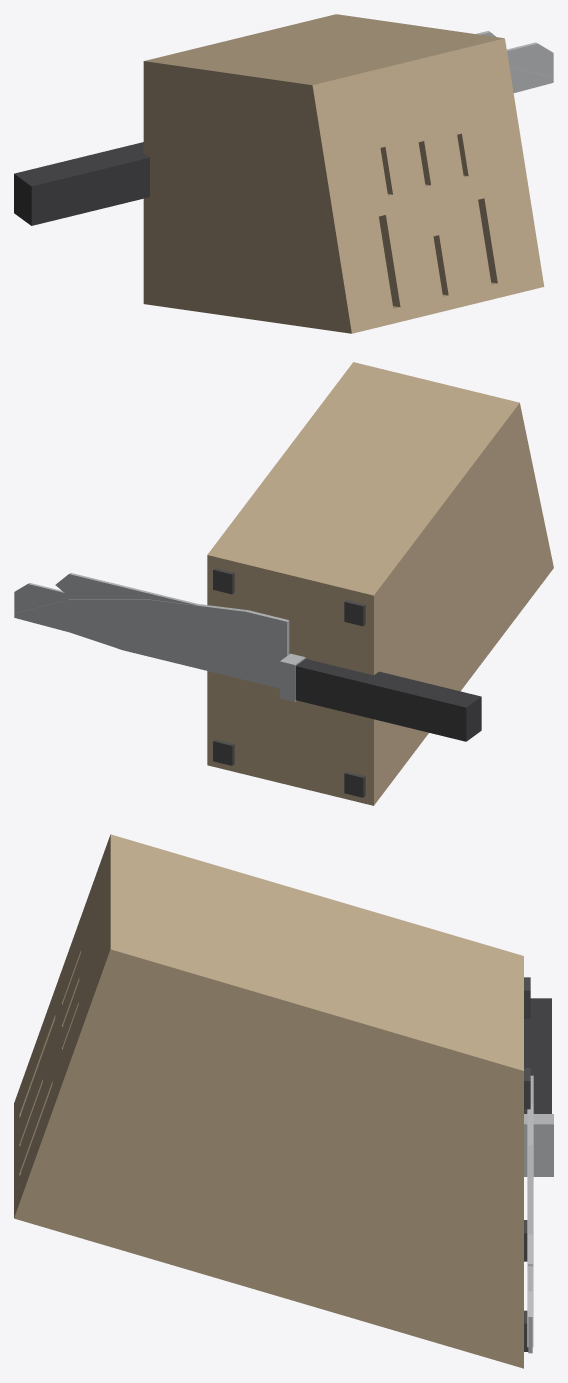
Rendered from knife_block.glb.
3 renders of one model, top to bottom at view 1: azimuth 30°, elevation 25°; view 2: azimuth 150°, elevation 25°; view 3: azimuth 270°, elevation 25°, orthographic. The views are drawn at different scales.
Parts seen in each view (by area): view 1: v0, v4, v5, v2, v7; view 2: v0, v2, v4, v1, v8, v5, v3; view 3: v0, v4, v3, v2, v1.
Part boxes in pixels (x1,y1,x2,y2): v0: (143,14,544,333); v4: (14,142,149,225); v5: (506,42,553,92); v2: (509,66,553,91); v7: (14,176,30,224); v0: (207,362,553,805); v2: (14,599,289,688); v4: (295,658,481,741); v1: (213,568,365,797); v8: (55,573,288,653); v5: (14,583,288,655); v3: (280,653,305,701); v0: (14,834,523,1368); v4: (524,998,551,1113); v3: (524,1114,553,1176); v2: (527,1075,533,1347); v1: (524,977,530,1351).
Size of the model in its own units: 0.336 by 0.2074 by 0.242.
